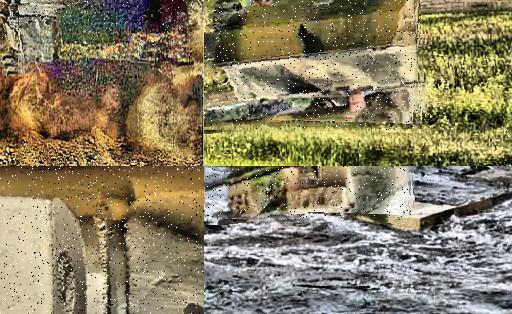tanks: (1, 167, 205, 314), (205, 1, 423, 129), (1, 1, 190, 69), (206, 167, 412, 221)
